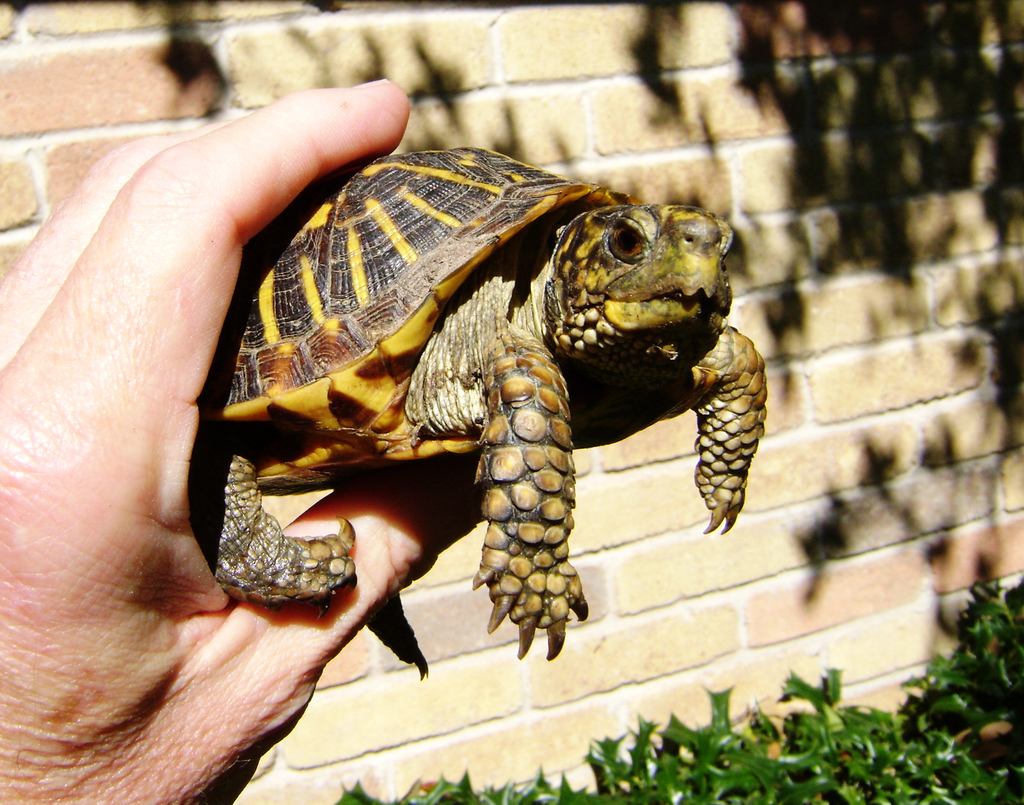Sea turtles: (170, 128, 765, 674)
